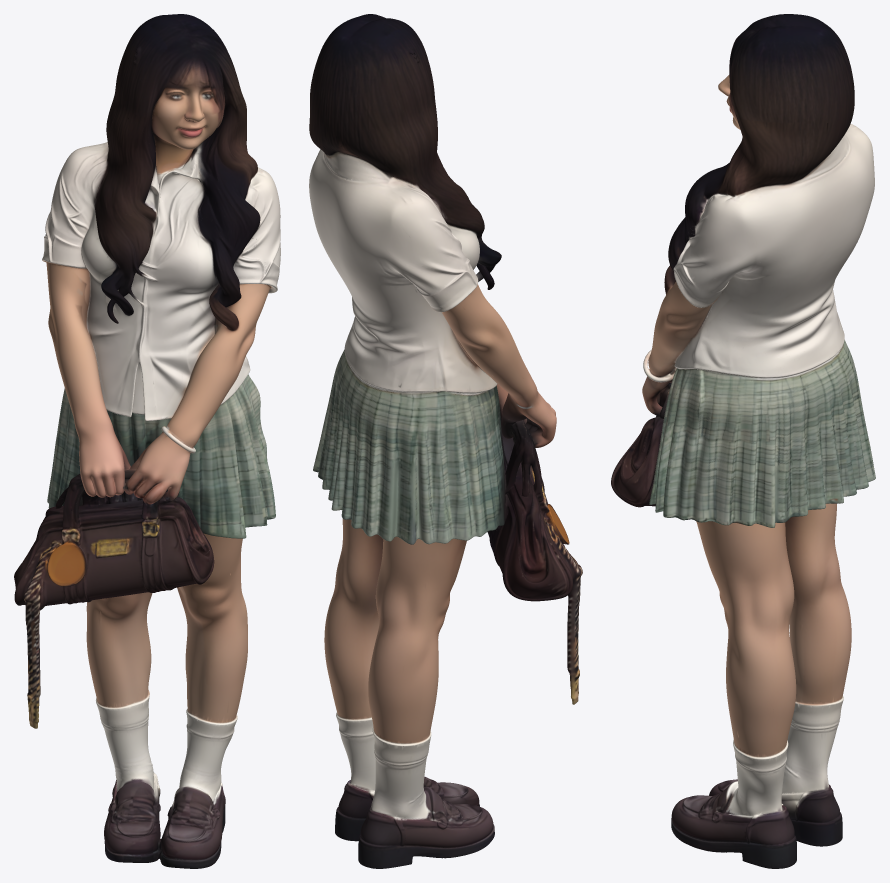
Rendered from girlfriend_standing.glb.
3 renders of one model, left to right at view 1: azimuth 30°, elevation 25°; view 2: azimuth 150°, elevation 25°; view 3: azimuth 270°, elevation 25°, orthographic. The views are drawn at different scales.
Visible parts, largest first — view 1: node_0; view 2: node_0; view 3: node_0.
Part boxes in pixels (x1,y1,x2,y2): node_0: (14, 14, 280, 868); node_0: (309, 14, 582, 868); node_0: (611, 14, 875, 868).
Size of the model in its own units: 0.3823 by 1.16 by 0.3372.
Materials: 1 (1 with a texture image).
